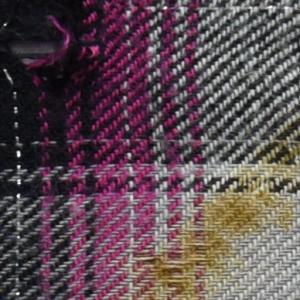Damage: (1, 1, 107, 112)
Stain: (142, 124, 300, 300)
